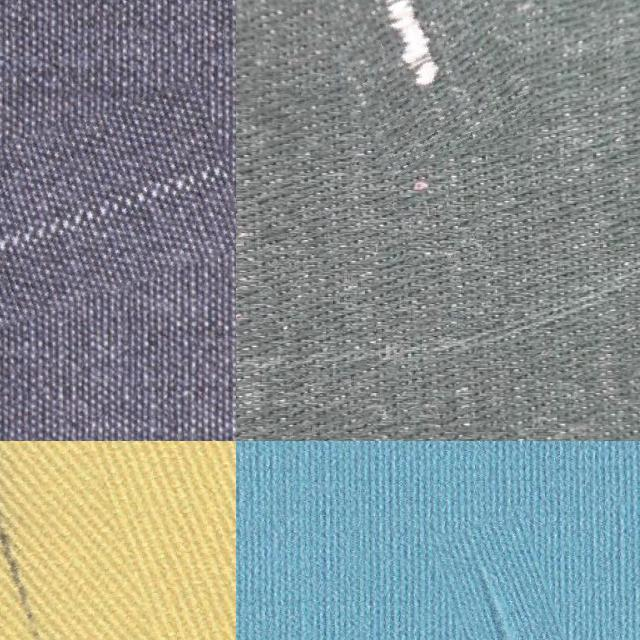stains: (0, 108, 236, 346), (331, 0, 531, 168), (0, 441, 136, 640), (448, 512, 585, 640)
